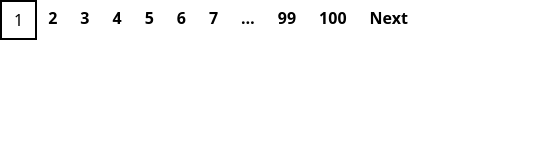
Test case: check page changing
Expected: the button "Previous" is not shown
Expected: the button "Next" is shown, [358, 0, 420, 36]
Click the button with test id "5".
click(149, 18)  # box [133, 0, 166, 36]
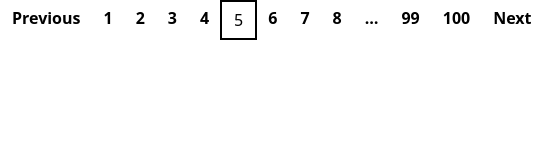
Click the button "Previous".
click(46, 18)  # box [0, 0, 92, 36]
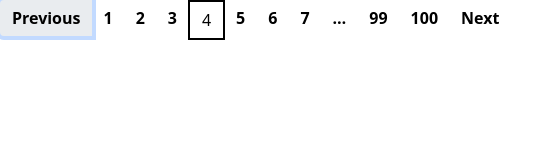
Click the button "Next".
click(480, 18)  # box [449, 0, 511, 36]
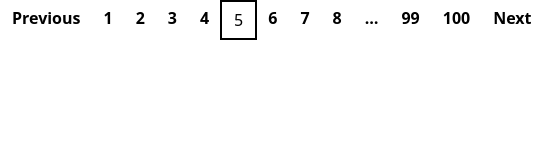
Click the button with test id "100".
click(456, 18)  # box [431, 0, 482, 36]
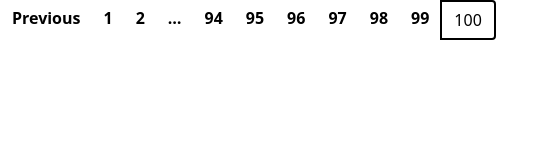
Result: the button "Next" is gone
